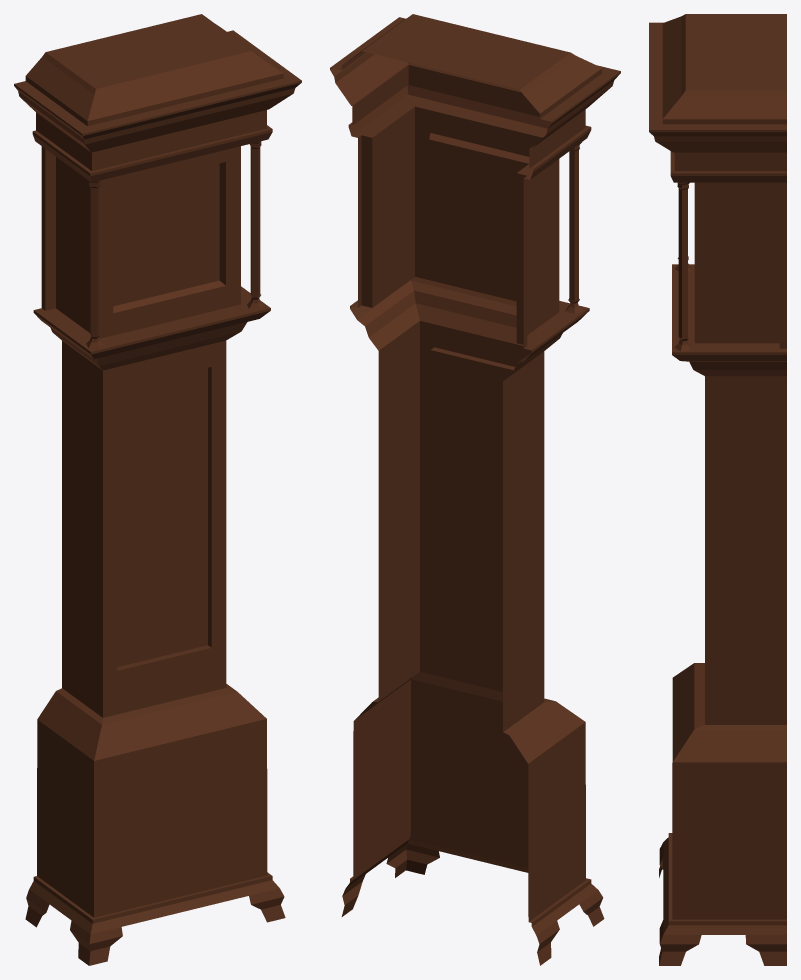
Rendered from grandfatherclock.glb.
3 renders of one model, left to right at view 1: azimuth 30°, elevation 25°; view 2: azimuth 150°, elevation 25°; view 3: azimuth 270°, elevation 25°, orthographic.
Visible parts, largest first — view 1: Clock_Low; view 2: Clock_Low; view 3: Clock_Low.
Part boxes in pixels (bbox=[...]): Clock_Low: bbox=[14, 14, 301, 965]; Clock_Low: bbox=[330, 14, 620, 965]; Clock_Low: bbox=[649, 14, 786, 965].
Bounding box in the file's own units: 0.5095 × 1.91 × 0.276.
